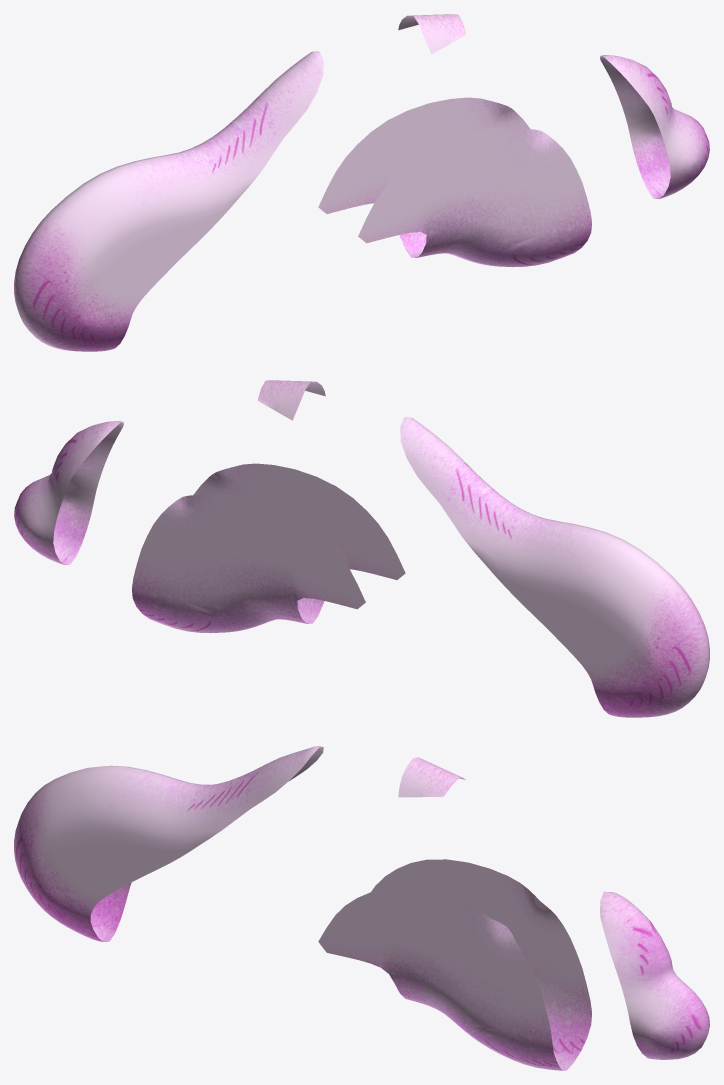
File: Cloud_B_nuki.obj
3 renders of one model, top to bottom at view 1: azimuth 30°, elevation 25°; view 2: azimuth 150°, elevation 25°; view 3: azimuth 330°, elevation 25°, orthographic.
Visible parts, largest first — view 1: Cloud_B_nuki; view 2: Cloud_B_nuki; view 3: Cloud_B_nuki.
Part boxes in pixels (x1=…): Cloud_B_nuki: x1=14, y1=14, x2=709, y2=351; Cloud_B_nuki: x1=14, y1=380, x2=709, y2=717; Cloud_B_nuki: x1=14, y1=746, x2=709, y2=1070.
Bounding box in the file's own units: 209 × 80.22 × 20.81.
1 material, 1 textured.
